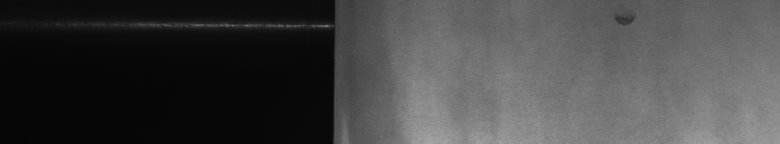fi: (614, 8, 639, 32)
